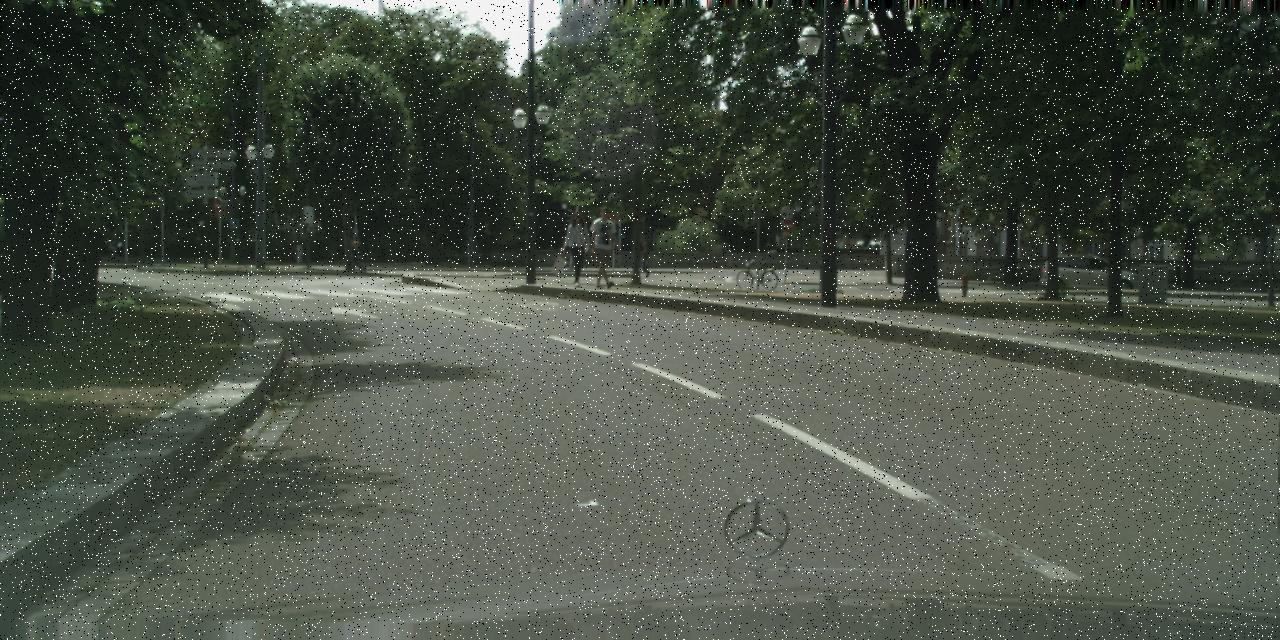ped: (588, 207, 621, 288), (562, 211, 592, 287), (638, 242, 652, 276)
